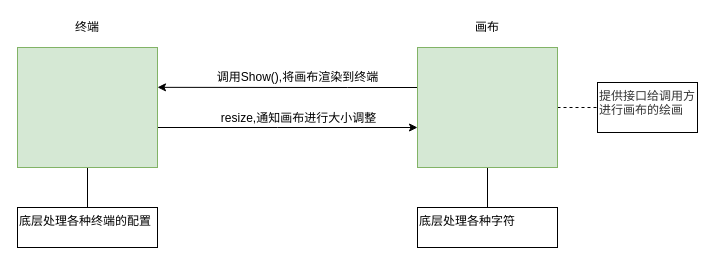
The diagram is 715 pixels wide and 265 high, and some of its shapes have lost their labels. Here are the shapes that lost their labels. From the top down, the box of each, then its label:
(16, 46, 158, 168): abc 123 正在屏幕上显示的内容
(416, 46, 558, 168): abc 123 正在屏幕上显示的内容 又加了一些文本 还加了 加粗 文字 还加了 自定义样式
